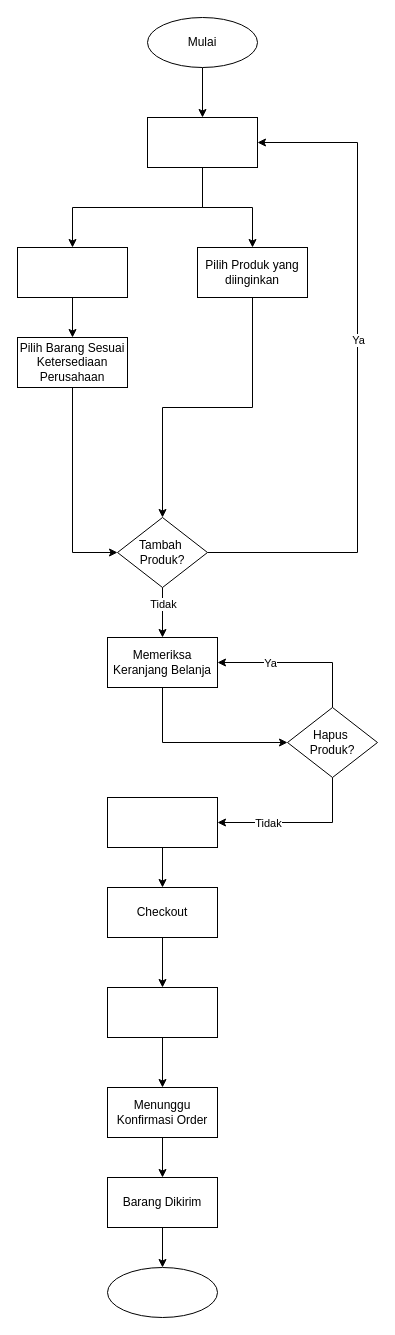
This 395x1335 diagram has some shape labels left out. The shapes that lost their labels are listed below. From the top down, each one's centre as x and y in pixels, then its label:
At (202,142): "Home".
At (72,272): "Pilih dari kategori produk".
At (162,822): "Pengisian Data Pribadi".
At (162,1012): "Melakukan Pembayaran".
At (162,1292): "Selesai".
